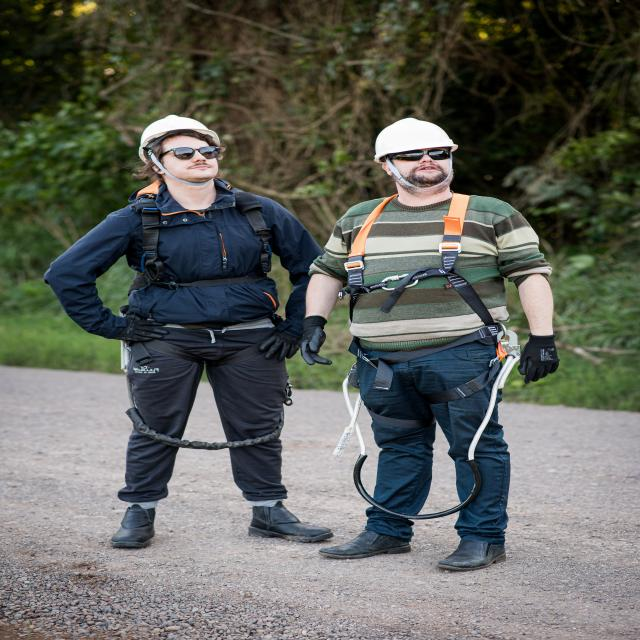botas: (243, 500, 339, 548), (314, 523, 421, 565), (434, 531, 511, 576), (107, 504, 163, 552)
capacete: (370, 116, 464, 166), (134, 112, 222, 164)
corda de vida: (333, 188, 519, 423), (111, 185, 294, 372)
luva: (513, 332, 567, 386), (104, 313, 172, 347), (258, 319, 307, 364), (297, 313, 335, 368)
